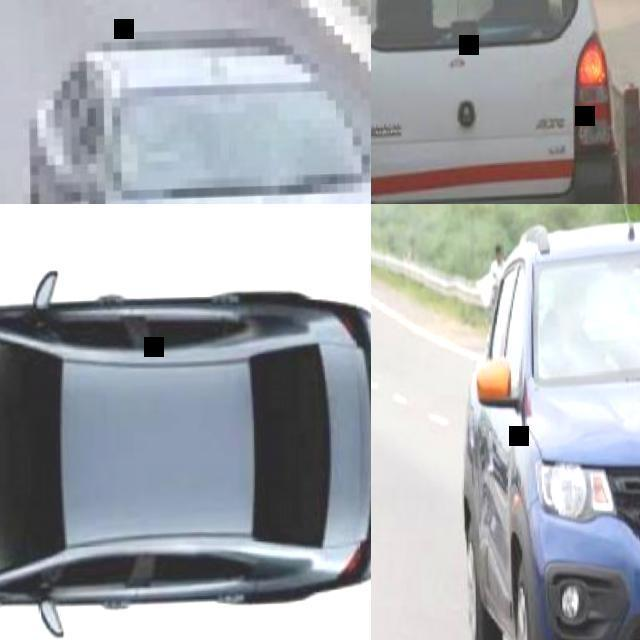car: (2, 21, 503, 639), (460, 216, 639, 639)
